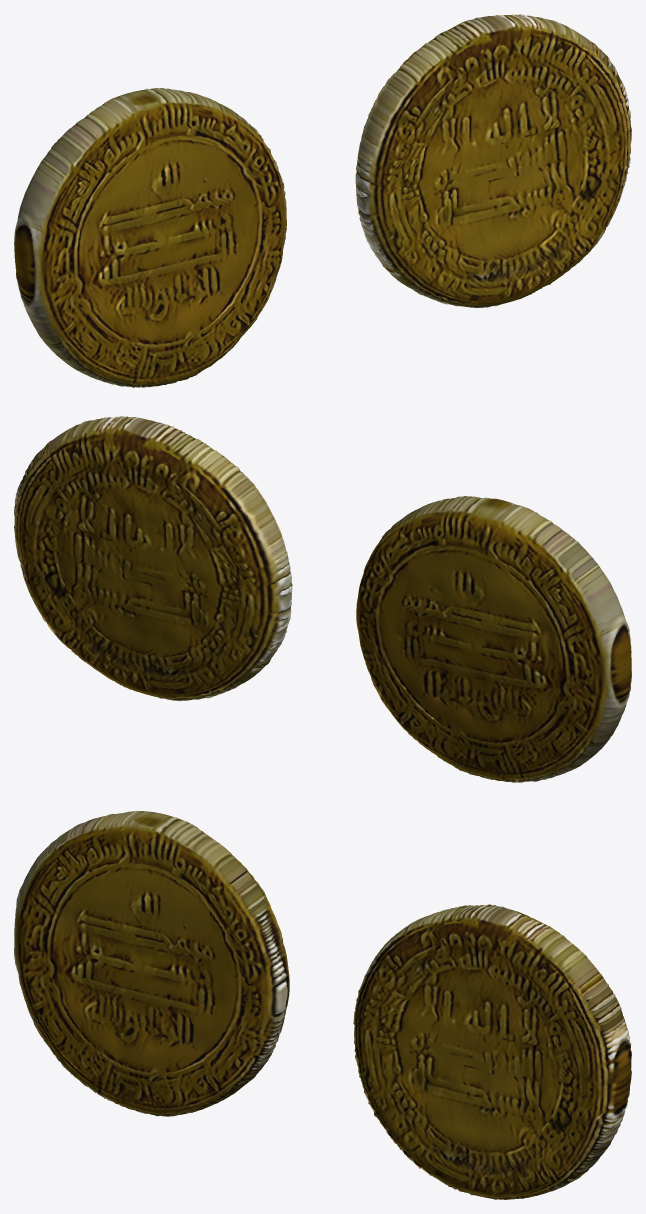
File: kfl-2256.glb
The picture shows the model from 3 angles, top to bottom: view 1: azimuth 30°, elevation 25°; view 2: azimuth 150°, elevation 25°; view 3: azimuth 330°, elevation 25°; orthographic projection.
Parts seen in each view (by area): view 1: kfl-2256; view 2: kfl-2256; view 3: kfl-2256.
Part boxes in pixels (x1,y1,x2,y2): kfl-2256: (14, 14, 631, 387); kfl-2256: (14, 416, 631, 782); kfl-2256: (14, 811, 631, 1199).
Size of the model in its own units: 0.9962 by 0.4383 by 0.1185.
1 material, 1 textured.
